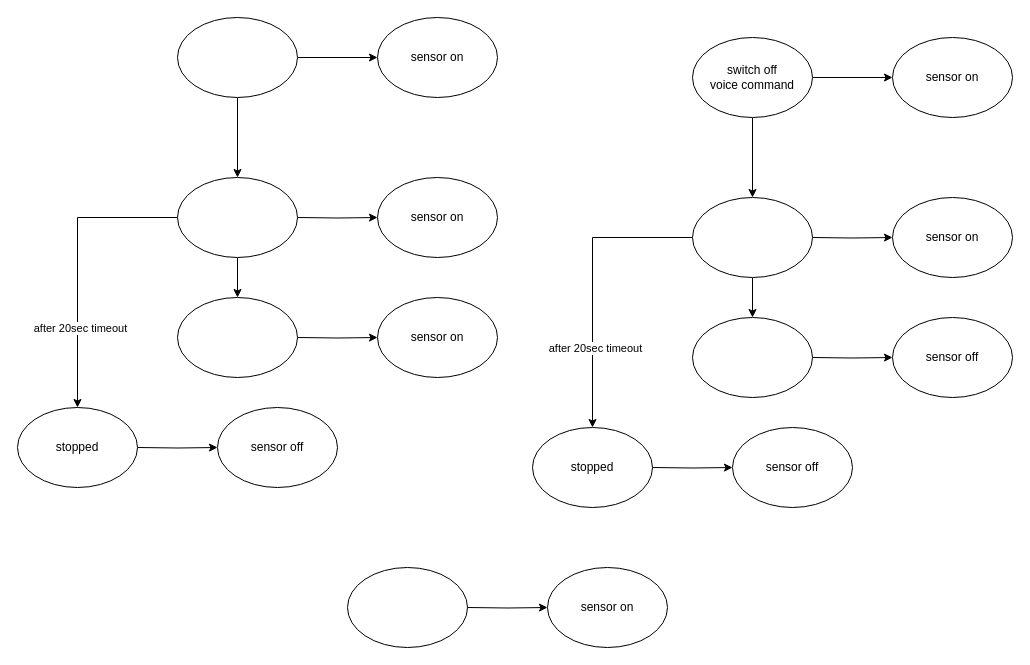
Image size: 1030x665. Some labels were removed from this diagram. Here are the shapes that lost their labels. From the top down, the box of each, then its label:
(176, 16, 298, 98): switch on voice command
(176, 176, 298, 258): opening
(692, 196, 812, 278): closing
(176, 296, 298, 378): opened
(692, 316, 812, 398): closed
(346, 566, 468, 648): obstructed
